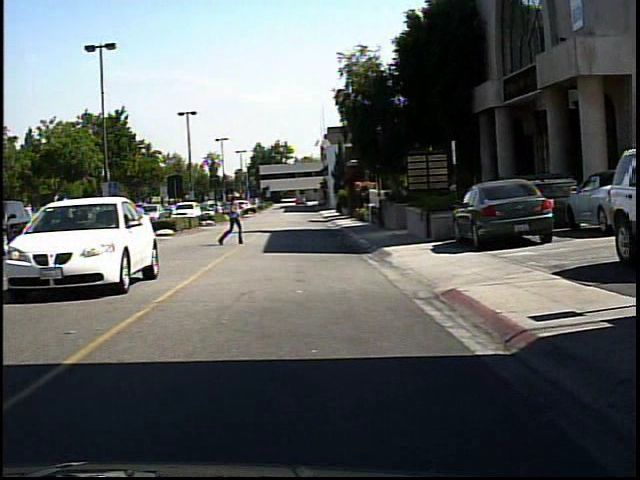person: (216, 187, 247, 248)
